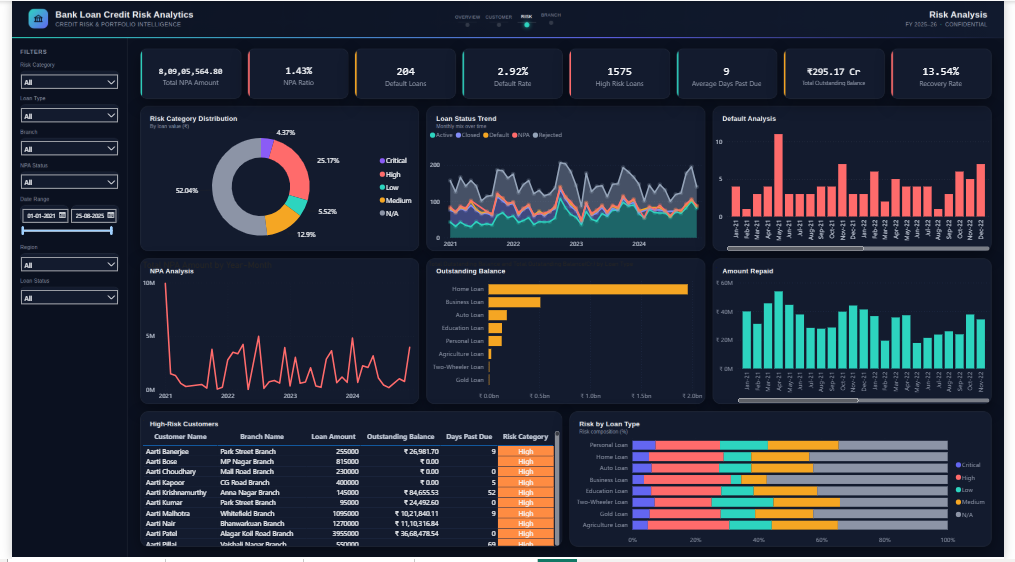

This screenshot's page, from the dashboard's own definition file:
{"tool":"powerbi","page":{"name":"Risk Analysis","canvas":[1920,1080],"ordinal":2},"visuals":[{"type":"cardVisual","fields":{"Data":["_Measures.Total Outstanding Balance Display"]},"box":[1493,96,196,97],"z":0},{"type":"cardVisual","fields":{"Data":["_Measures.NPA Rate"]},"box":[456,96,196,97],"z":1000},{"type":"cardVisual","fields":{"Data":["_Measures.Default Loans"]},"box":[663,96,196,97],"z":2000},{"type":"cardVisual","fields":{"Data":["_Measures.Default Rate"]},"box":[870,96,196,97],"z":3000},{"type":"cardVisual","fields":{"Data":["_Measures.High Risk Loans"]},"box":[1078,96,196,97],"z":4000},{"type":"cardVisual","fields":{"Data":["_Measures.Average Days Past Due"]},"box":[1286,96,196,97],"z":5000},{"type":"cardVisual","fields":{"Data":["_Measures.Recovery Rate"]},"box":[1700,96,196,97],"z":6000},{"type":"cardVisual","fields":{"Data":["_Measures.Total NPA Amount"]},"box":[248,96,196,97],"z":7000},{"type":"donutChart","title":".","fields":{"Y":["_Measures.Total Loan Amount"],"Category":["Loan.Risk_Category"]},"box":[248,207,540,281],"z":8000},{"type":"stackedAreaChart","title":".","fields":{"Category":["Calendar.Year-Month"],"Y":["CountNonNull(Loan.Loan_ID)"],"Series":["Loan.Loan_Status"]},"box":[803,207,540,281],"z":9000},{"type":"clusteredColumnChart","title":".","fields":{"Y":["_Measures.Default Loans"],"Category":["Calendar.Month-Year Short"]},"box":[1356,207,540,281],"z":10000},{"type":"lineChart","fields":{"Category":["Calendar.Year-Month"],"Y":["_Measures.Total NPA Amount"]},"box":[248,502,540,281],"z":11000},{"type":"clusteredBarChart","fields":{"Category":["Loan_Type.Loan_Type_Name"],"Y":["_Measures.Total Outstanding Balance"]},"box":[802,502,540,281],"z":12000},{"type":"clusteredColumnChart","title":".","fields":{"Category":["Calendar.Month-Year Short"],"Y":["_Measures.Total Amount Repaid"]},"box":[1356,502,540,281],"z":13000},{"type":"tableEx","title":".","fields":{"Values":["Customers.Name","Branches.Branch_Name","_Measures.Total Loan Amount","_Measures.Total Outstanding Balance","Sum(Payment.Days_Past_Due)","Loan.Risk_Category"]},"box":[248,798,817,262],"z":14000},{"type":"hundredPercentStackedBarChart","title":".","fields":{"Category":["Loan_Type.Loan_Type_Name"],"Y":["CountNonNull(Loan.Loan_ID)"],"Series":["Loan.Risk_Category"]},"box":[1080,800,817,262],"z":15000},{"type":"slicer","fields":{"Values":["Loan.Risk_Category"]},"box":[8,131,207,50],"z":16000},{"type":"slicer","fields":{"Values":["Loan_Type.Loan_Type_Name"]},"box":[8,195,207,50],"z":17000},{"type":"slicer","fields":{"Values":["Branches.Branch_Name"]},"box":[8,262,207,50],"z":18000},{"type":"slicer","fields":{"Values":["Loan.Loan_Status"]},"box":[8,550,207,50],"z":19000},{"type":"slicer","fields":{"Values":["Branches.Region"]},"box":[8,485,207,50],"z":20000},{"type":"slicer","fields":{"Values":["Payment.NPA Status"]},"box":[8,328,207,50],"z":21000},{"type":"slicer","fields":{"Values":["Calendar.Date"]},"box":[8,392,215,72],"z":22000}]}

Visuals, with their boxes on the page's 1920x1080 design canvas (x1, y1, x2, y2). These are canvas units, not pixel positions in the 1015x562 screenshot, which may show the page scaled, cropped or inside an application window:
cardVisual - _Measures.Total Outstanding Balance Display: Rect(1493, 96, 1689, 193)
cardVisual - _Measures.NPA Rate: Rect(456, 96, 652, 193)
cardVisual - _Measures.Default Loans: Rect(663, 96, 859, 193)
cardVisual - _Measures.Default Rate: Rect(870, 96, 1066, 193)
cardVisual - _Measures.High Risk Loans: Rect(1078, 96, 1274, 193)
cardVisual - _Measures.Average Days Past Due: Rect(1286, 96, 1482, 193)
cardVisual - _Measures.Recovery Rate: Rect(1700, 96, 1896, 193)
cardVisual - _Measures.Total NPA Amount: Rect(248, 96, 444, 193)
"." donutChart: Rect(248, 207, 788, 488)
"." stackedAreaChart: Rect(803, 207, 1343, 488)
"." clusteredColumnChart: Rect(1356, 207, 1896, 488)
lineChart - Calendar.Year-Month x _Measures.Total NPA Amount: Rect(248, 502, 788, 783)
clusteredBarChart - Loan_Type.Loan_Type_Name x _Measures.Total Outstanding Balance: Rect(802, 502, 1342, 783)
"." clusteredColumnChart: Rect(1356, 502, 1896, 783)
"." tableEx: Rect(248, 798, 1065, 1060)
"." hundredPercentStackedBarChart: Rect(1080, 800, 1897, 1062)
slicer - Loan.Risk_Category: Rect(8, 131, 215, 181)
slicer - Loan_Type.Loan_Type_Name: Rect(8, 195, 215, 245)
slicer - Branches.Branch_Name: Rect(8, 262, 215, 312)
slicer - Loan.Loan_Status: Rect(8, 550, 215, 600)
slicer - Branches.Region: Rect(8, 485, 215, 535)
slicer - Payment.NPA Status: Rect(8, 328, 215, 378)
slicer - Calendar.Date: Rect(8, 392, 223, 464)
